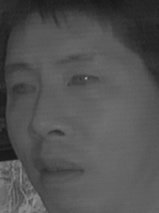eye: (66, 71, 101, 92), (7, 80, 39, 100)
mouth: (32, 153, 88, 186)
